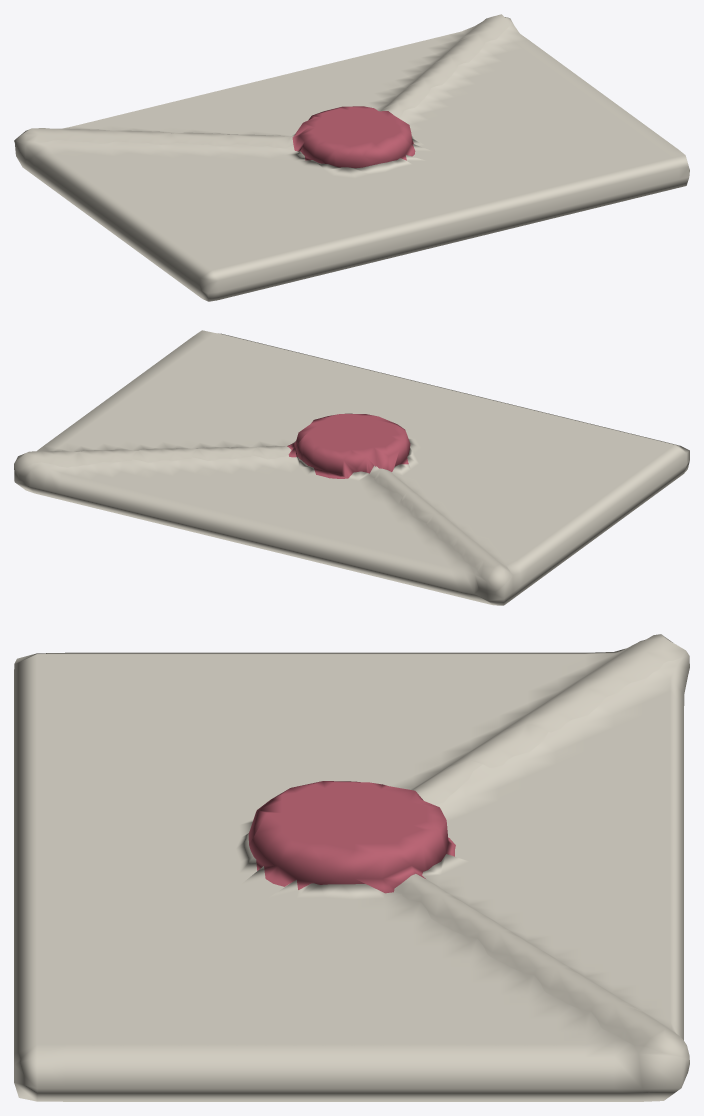
The model's file is letter.glb.
3 renders of one model, top to bottom at view 1: azimuth 30°, elevation 25°; view 2: azimuth 150°, elevation 25°; view 3: azimuth 270°, elevation 25°, orthographic. The views are drawn at different scales.
Visible parts, largest first — view 1: letter; view 2: letter; view 3: letter.
Boxes of the visible parts, x1,y1,x2,y2 form: letter: [14, 14, 689, 301]; letter: [14, 330, 689, 605]; letter: [14, 634, 689, 1101].
Bounding box in the file's own units: 44.22 × 4.2 × 30.26.
